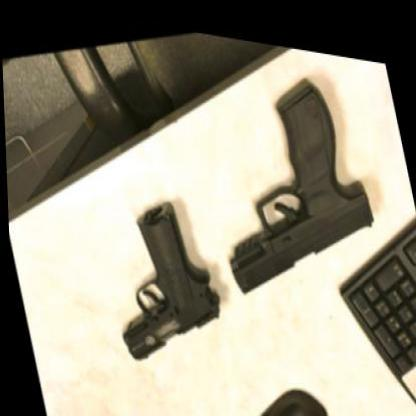pistol: (191, 47, 386, 308), (90, 174, 229, 373)
